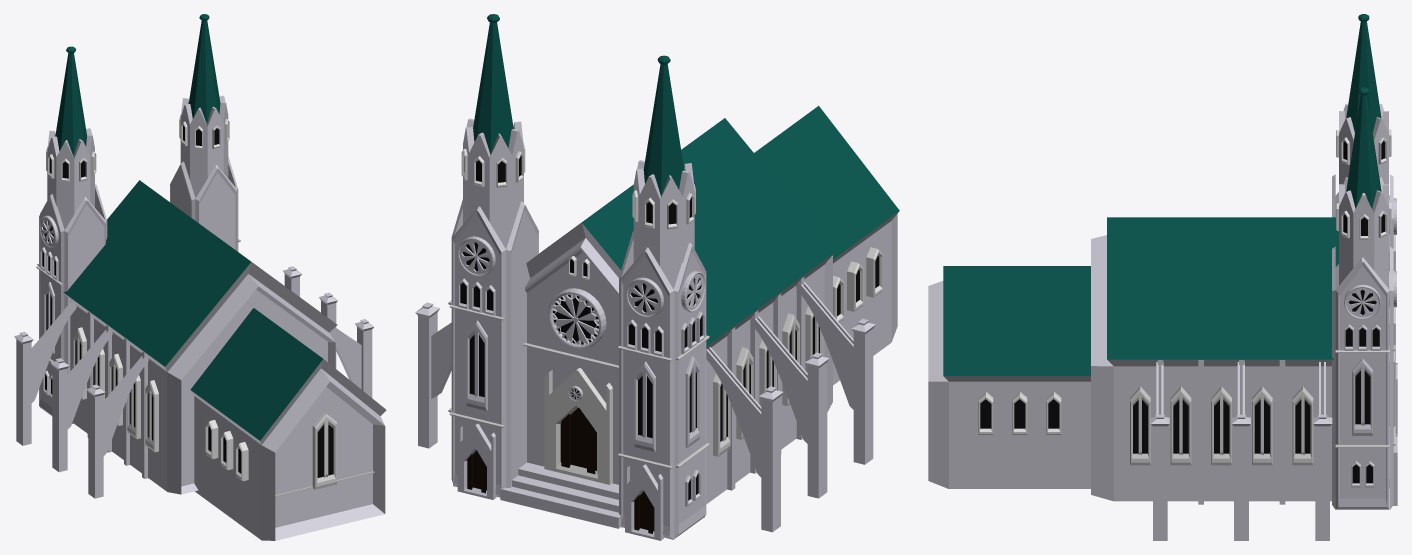
The model's file is cathedral_russian.obj.
3 views of the same model, side by side, from view 1: azimuth 30°, elevation 25°; view 2: azimuth 150°, elevation 25°; view 3: azimuth 270°, elevation 25° (orthographic). The views are drawn at different scales.
Visible parts, largest first — view 1: Body_Cube.049, Body.001_Cube.095, Cylinder.006_Cylinder.008, Cylinder.007_Cylinder.009, TowerFace.000_Cube.029, TowerFace.005_Cube.010, TowerFace.003_Cube.029, Cube.056_Cube.080, Cube.054_Cube.075, Cube.059_Cube.083, Cube.071_Cube.096, Cube.061_Cube.085 (+16 smaller); view 2: Body_Cube.049, Body.001_Cube.095, Tower.001_Cube.004, Tower_Cube.004, Cylinder.006_Cylinder.008, Cylinder.007_Cylinder.009, Cube.033_Cube.052, TowerFace.002_Cube.020, TowerFace.005_Cube.010, Cube.059_Cube.083, Cube.056_Cube.080, Cube.054_Cube.075 (+29 smaller); view 3: Body_Cube.049, Body.001_Cube.095, TowerFace.001_Cube.010, Cylinder.006_Cylinder.008, Cylinder.007_Cylinder.009, Cube.062_Cube.086, Cube.068_Cube.092, Cube.065_Cube.089, Cube.052_Cube.073, Cube.049_Cube.070, Cube.051_Cube.072, Cube.050_Cube.071 (+10 smaller).
Boxes of the visible parts, bbox=[...] form: Body_Cube.049: bbox=[63, 180, 337, 494]; Body.001_Cube.095: bbox=[190, 308, 386, 540]; Cylinder.006_Cylinder.008: bbox=[180, 14, 228, 197]; Cylinder.007_Cylinder.009: bbox=[47, 46, 94, 229]; TowerFace.000_Cube.029: bbox=[64, 197, 105, 423]; TowerFace.005_Cube.010: bbox=[39, 194, 64, 415]; TowerFace.003_Cube.029: bbox=[195, 165, 236, 250]; Cube.056_Cube.080: bbox=[50, 358, 69, 472]; Cube.054_Cube.075: bbox=[14, 331, 33, 445]; Cube.059_Cube.083: bbox=[86, 384, 105, 498]; Cube.071_Cube.096: bbox=[312, 412, 336, 489]; Cube.061_Cube.085: bbox=[103, 356, 148, 455]; Body_Cube.049: bbox=[525, 118, 835, 504]; Body.001_Cube.095: bbox=[754, 106, 899, 385]; Tower.001_Cube.004: bbox=[621, 247, 674, 539]; Tower_Cube.004: bbox=[453, 206, 505, 497]; Cylinder.006_Cylinder.008: bbox=[463, 14, 523, 248]; Cylinder.007_Cylinder.009: bbox=[633, 55, 694, 288]; Cube.033_Cube.052: bbox=[544, 368, 612, 484]; TowerFace.002_Cube.020: bbox=[506, 201, 538, 487]; TowerFace.005_Cube.010: bbox=[673, 243, 706, 538]; Cube.059_Cube.083: bbox=[851, 318, 875, 464]; Cube.056_Cube.080: bbox=[805, 352, 829, 498]; Cube.054_Cube.075: bbox=[759, 386, 783, 532]; Body_Cube.049: bbox=[1091, 217, 1338, 501]; Body.001_Cube.095: bbox=[928, 266, 1090, 488]; TowerFace.001_Cube.010: bbox=[1335, 257, 1389, 509]; Cylinder.006_Cylinder.008: bbox=[1339, 87, 1388, 288]; Cylinder.007_Cylinder.009: bbox=[1339, 14, 1388, 184]; Cube.062_Cube.086: bbox=[1150, 414, 1169, 540]; Cube.068_Cube.092: bbox=[1313, 414, 1332, 540]; Cube.065_Cube.089: bbox=[1232, 414, 1250, 540]; Cube.052_Cube.073: bbox=[1292, 386, 1313, 465]; Cube.049_Cube.070: bbox=[1170, 386, 1191, 465]; Cube.051_Cube.072: bbox=[1252, 386, 1272, 465]; Cube.050_Cube.071: bbox=[1211, 386, 1231, 465].
Bounding box in the file's own units: 13.44 × 16.79 × 17.34.
